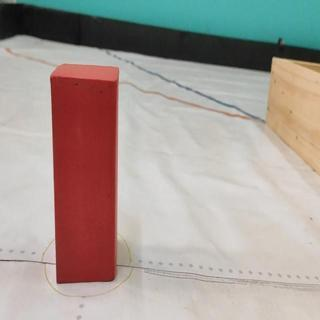redbox: (49, 63, 118, 288)
